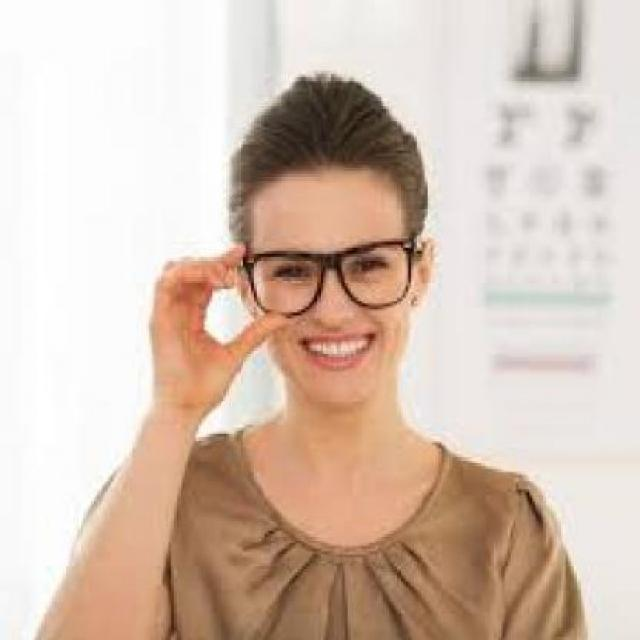mask: (240, 236, 422, 322)
